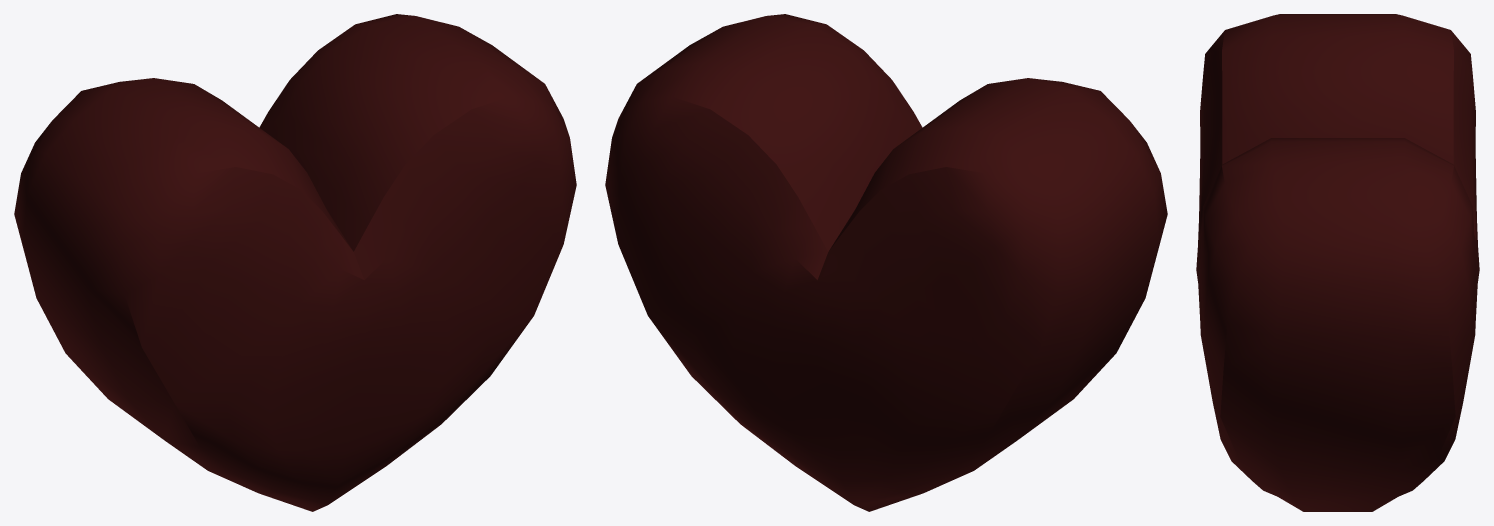
File: Heart.fbx
3 views of the same model, side by side, from view 1: azimuth 30°, elevation 25°; view 2: azimuth 150°, elevation 25°; view 3: azimuth 270°, elevation 25° (orthographic).
Parts seen in each view (by area): view 1: Heart; view 2: Heart; view 3: Heart.
Part boxes in pixels (left/top/right/bottom): Heart: left=14, top=14, right=576, bottom=511; Heart: left=605, top=14, right=1167, bottom=511; Heart: left=1196, top=14, right=1479, bottom=511.
Bounding box in the file's own units: 148 × 124 × 75.42.
